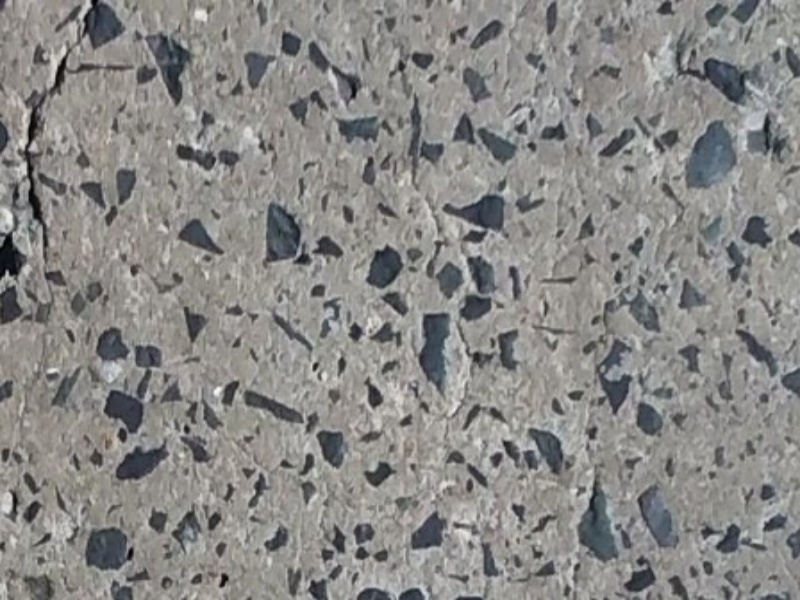crack: (6, 16, 106, 292)
